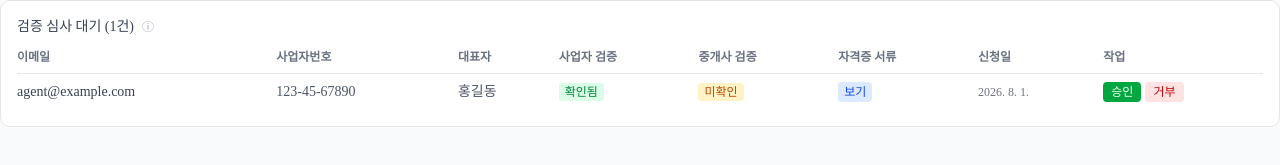
Test: VerificationReview 우리말 문구 (관리자 화면 리뉴얼 A4) › 도움말(ⓘ)을 열면 승인은 바로 반영, 거부는 사유가 필요하다고 알린다
Expected: the text "agent@example.com" is shown, [17, 74, 276, 110]
Expected: the text "승인은 바로 반영돼요" is not shown
Click the button named "설명 보기". click: x=148, y=27
box: [140, 21, 156, 33]
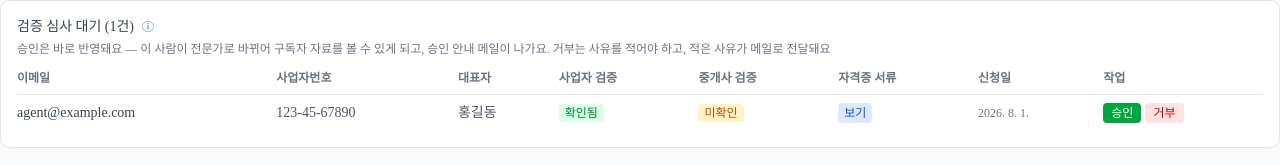
Result: the text "거부는 사유를 적어야" is shown at [17, 42, 831, 56]
